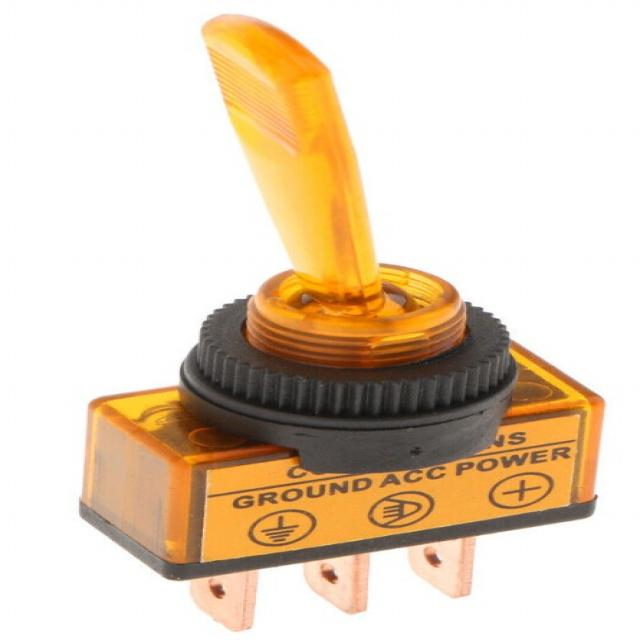toggle switch: (173, 13, 519, 430)
